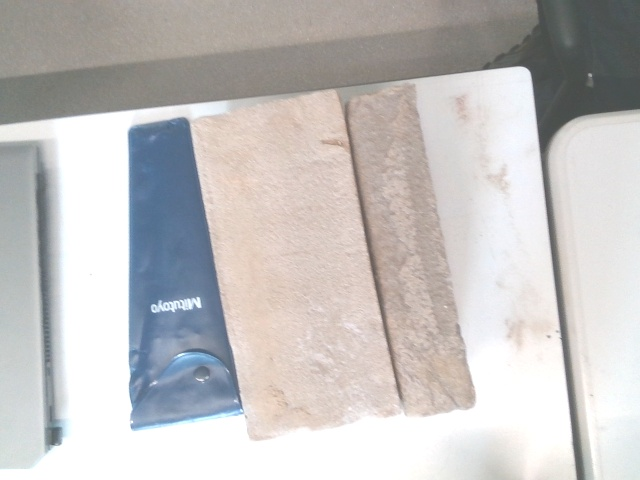brick: (192, 97, 395, 437)
